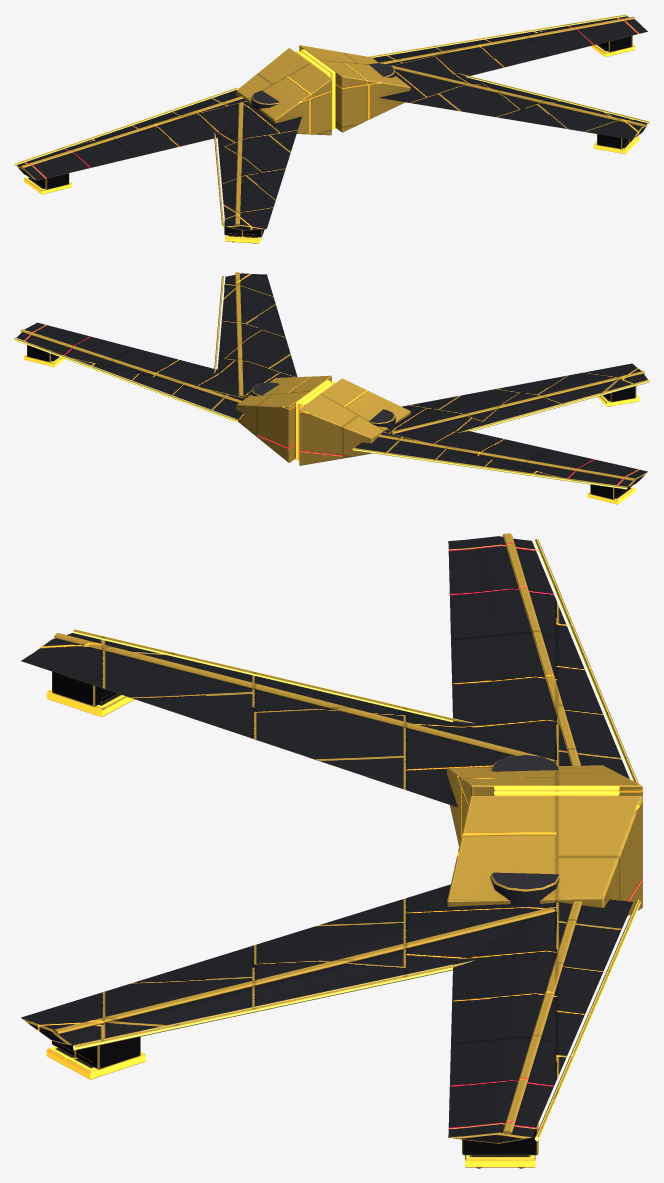
File: ala_variable_t4.fbx
3 renders of one model, top to bottom at view 1: azimuth 30°, elevation 25°; view 2: azimuth 150°, elevation 25°; view 3: azimuth 270°, elevation 25°, orthographic. The views are drawn at different scales.
Parts seen in each view (by area): view 1: ala_variable_t4_der_plegada, ala_variable_t4_izq_plegada, ala_variable_t4_izq_extendida, ala_variable_t4_der_extendida, ala_variable_t4_izq.001, ala_variable_t4_der.001, ala_variable_t4_izq_extendida_neon, ala_variable_t4_der_extendida_neon, ala_variable_t4_der_plegada_neon; view 2: ala_variable_t4_izq_extendida, ala_variable_t4_der_extendida, ala_variable_t4_izq_plegada, ala_variable_t4_der_plegada, ala_variable_t4_izq.001, ala_variable_t4_der.001, ala_variable_t4_izq_extendida_neon, ala_variable_t4_der_extendida_neon, ala_variable_t4_izq_plegada_neon; view 3: ala_variable_t4_der_plegada, ala_variable_t4_der_extendida, ala_variable_t4_izq_plegada, ala_variable_t4_izq_extendida, ala_variable_t4_der.001, ala_variable_t4_izq.001, ala_variable_t4_der_plegada_neon, ala_variable_t4_izq_plegada_neon.
Boxes of the visible parts, bbox=[...] form: ala_variable_t4_der_plegada: bbox=[379, 66, 649, 153]; ala_variable_t4_izq_plegada: bbox=[214, 103, 301, 243]; ala_variable_t4_izq_extendida: bbox=[15, 87, 250, 194]; ala_variable_t4_der_extendida: bbox=[369, 14, 647, 76]; ala_variable_t4_izq.001: bbox=[236, 48, 331, 135]; ala_variable_t4_der.001: bbox=[299, 45, 410, 132]; ala_variable_t4_izq_extendida_neon: bbox=[14, 88, 237, 165]; ala_variable_t4_der_extendida_neon: bbox=[369, 14, 627, 57]; ala_variable_t4_der_plegada_neon: bbox=[459, 73, 649, 123]; ala_variable_t4_izq_extendida: bbox=[352, 430, 647, 504]; ala_variable_t4_der_extendida: bbox=[14, 322, 248, 421]; ala_variable_t4_izq_plegada: bbox=[388, 363, 649, 433]; ala_variable_t4_der_plegada: bbox=[214, 272, 297, 396]; ala_variable_t4_izq.001: bbox=[299, 378, 410, 465]; ala_variable_t4_der.001: bbox=[236, 375, 331, 462]; ala_variable_t4_izq_extendida_neon: bbox=[352, 448, 627, 489]; ala_variable_t4_der_extendida_neon: bbox=[14, 338, 237, 421]; ala_variable_t4_izq_plegada_neon: bbox=[458, 380, 649, 432]; ala_variable_t4_der_plegada: bbox=[21, 884, 555, 1079]; ala_variable_t4_der_extendida: bbox=[448, 899, 640, 1168]; ala_variable_t4_izq_plegada: bbox=[21, 629, 555, 807]; ala_variable_t4_izq_extendida: bbox=[448, 533, 638, 783]; ala_variable_t4_der.001: bbox=[447, 791, 642, 915]; ala_variable_t4_izq.001: bbox=[447, 755, 642, 846]; ala_variable_t4_der_plegada_neon: bbox=[73, 960, 473, 1050]; ala_variable_t4_izq_plegada_neon: bbox=[73, 629, 474, 723].
Size of the model in its own units: 18.02 by 1.6 by 7.91.
